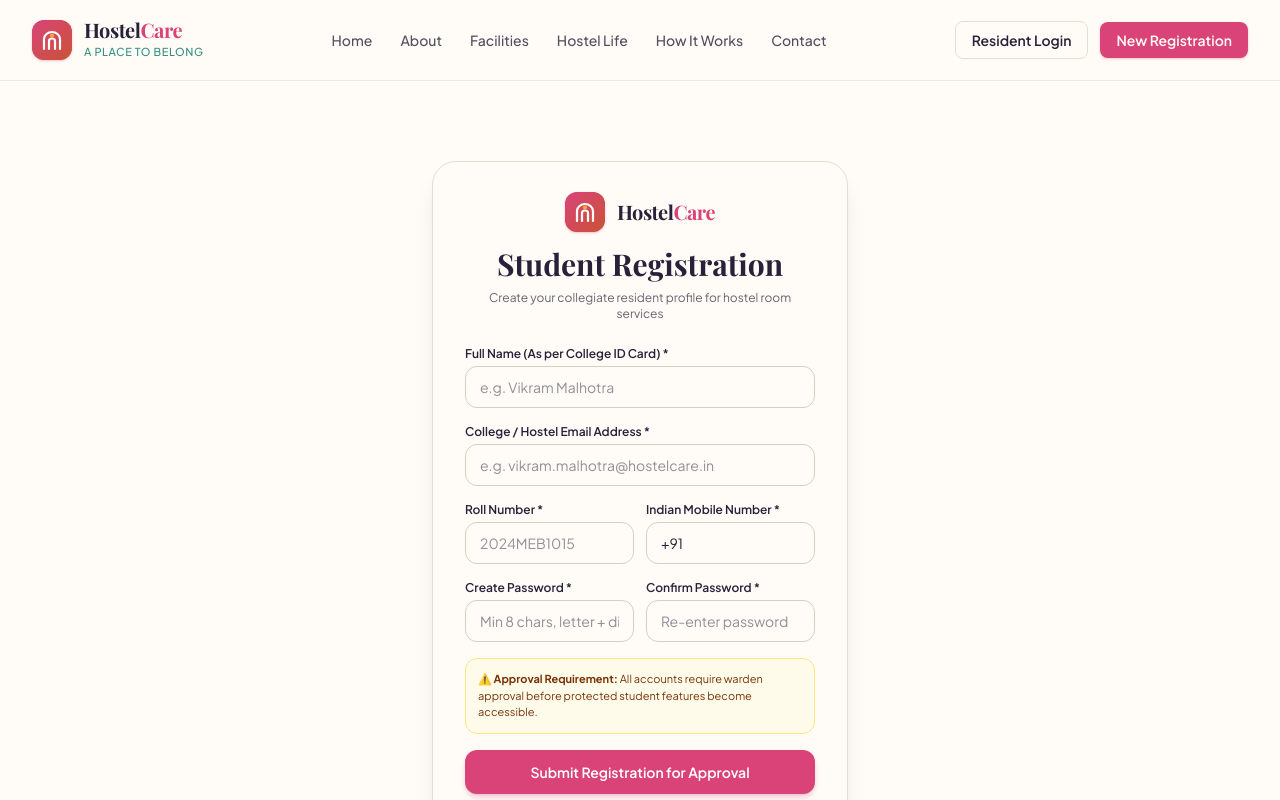
HostelCare Multi-Page Application & Phase 3C Authentication › submits student registration to /api/v1/auth/register and shows pending verification card
The image size is (1280, 800).
Type "Vikram Malhotra" into the field labelled "Full Name (As per College ID Card) *" at (640,387), box [465,366,815,408]
Type "vikram.malhotra@hostelcare.in" into the field labelled "College / Hostel Email Address *" at (640,465), box [465,444,815,486]
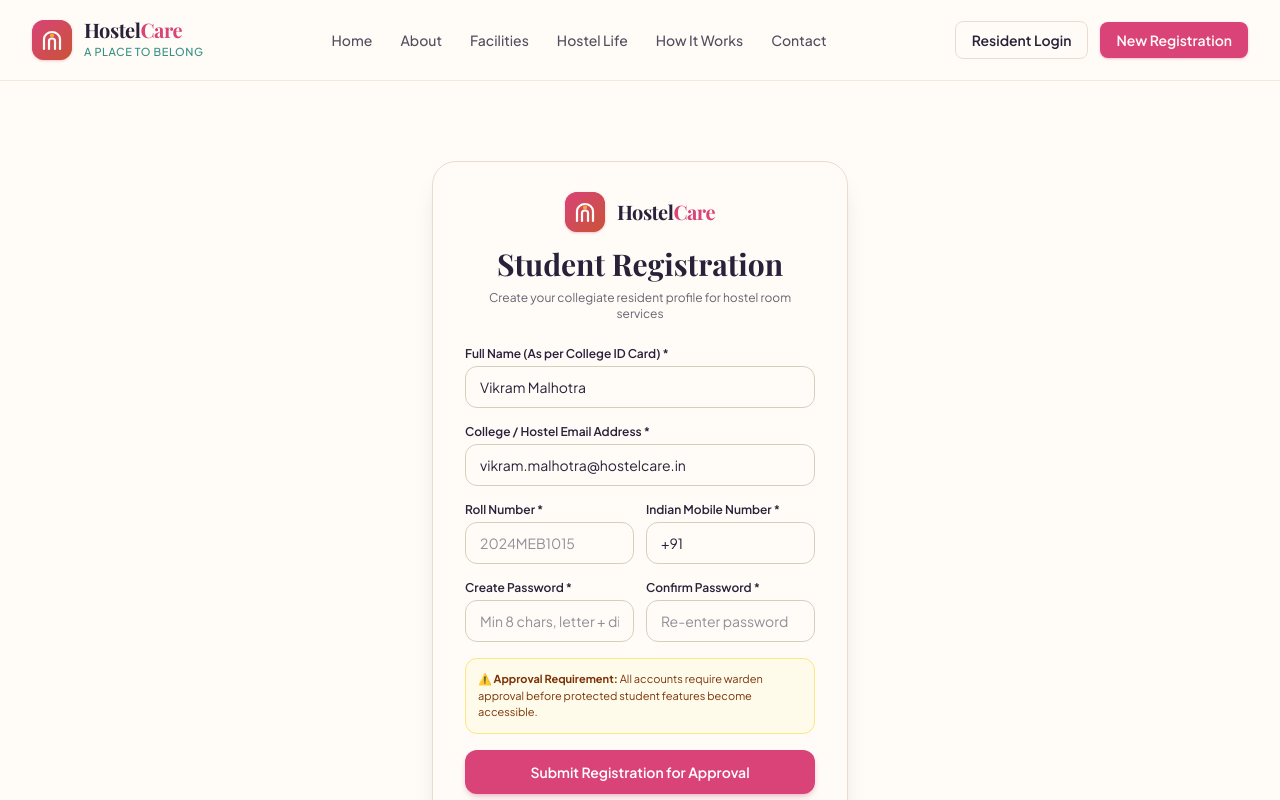
Type "2026MEB1015" into the field labelled "Roll Number *" at (550,543), box [465,522,634,564]
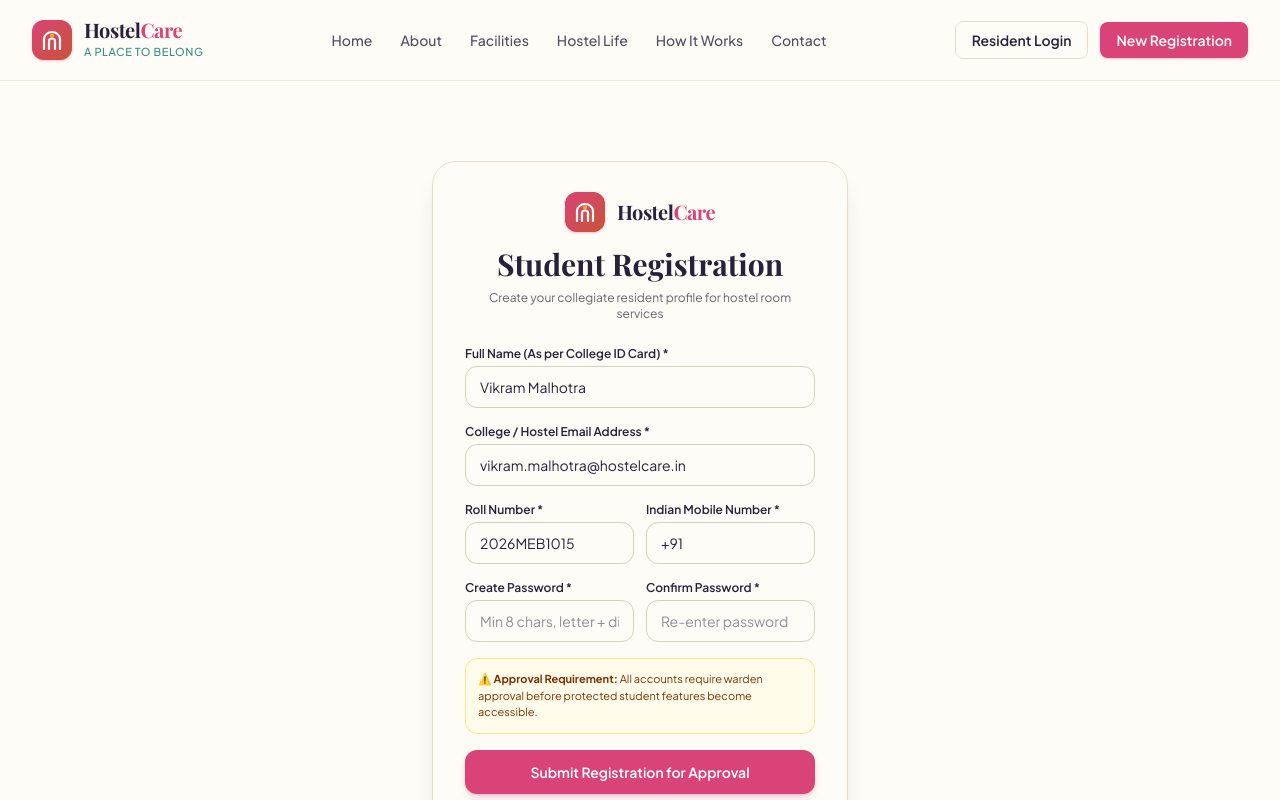
Replace the text in the field labelled "Indian Mobile Number *" with "+91 98765 43210" at (730,543), box [646,522,815,564]
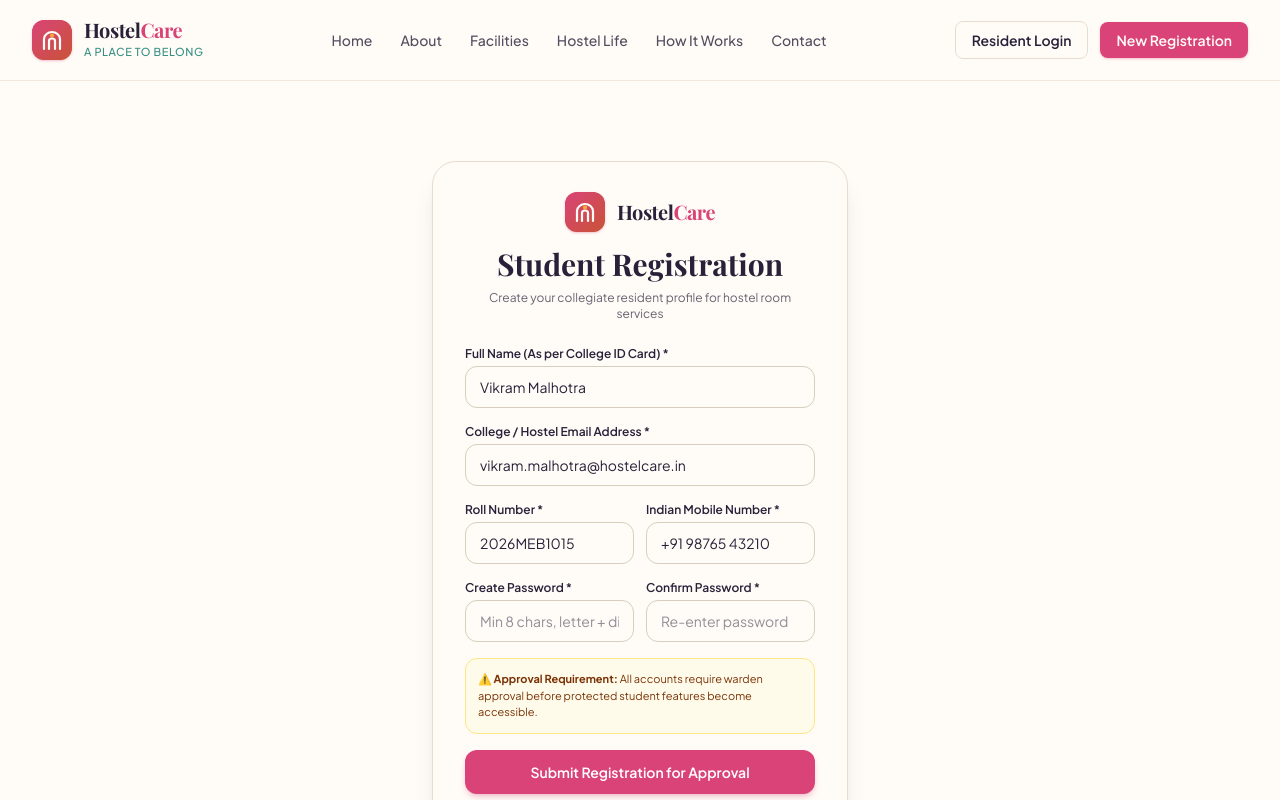
Type "VikramPass123!" into the password field labelled "Create Password *" at (550,621), box [465,600,634,642]
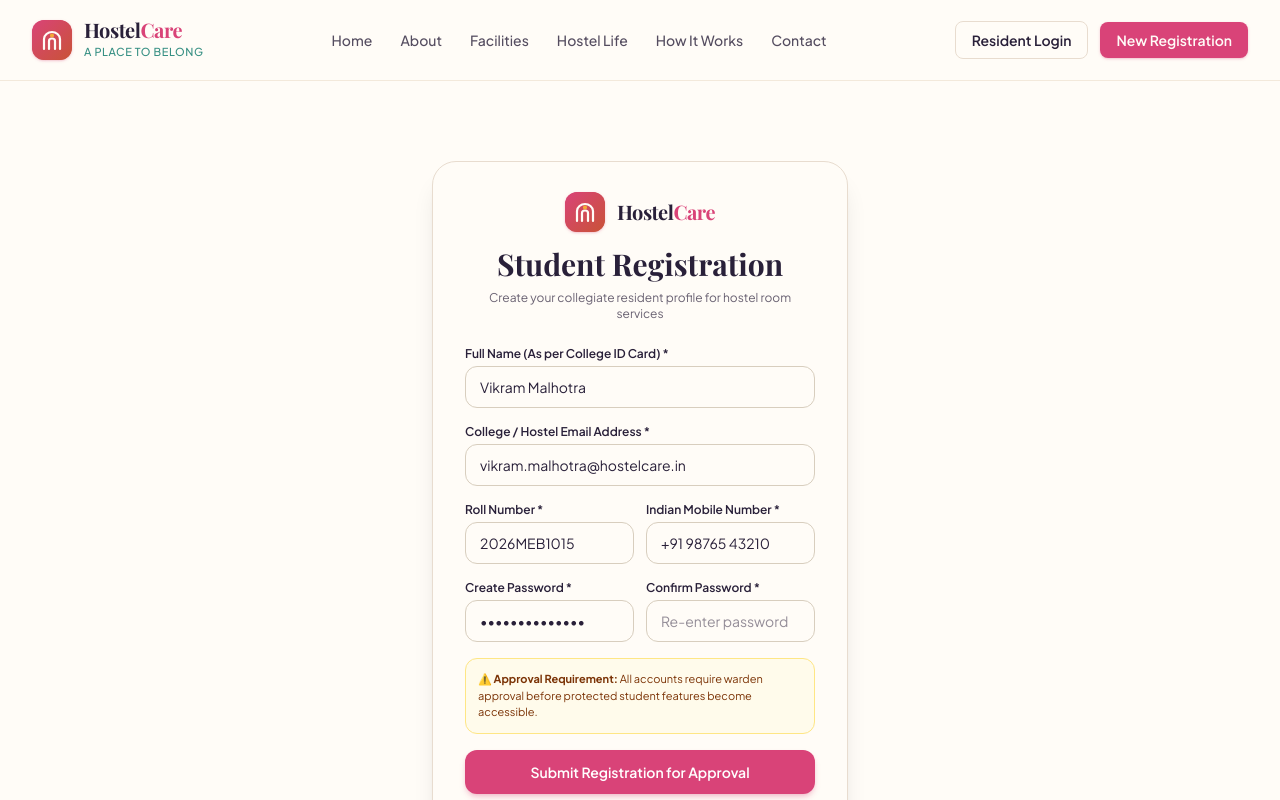
Type "VikramPass123!" into the password field labelled "Confirm Password *" at (730,621), box [646,600,815,642]
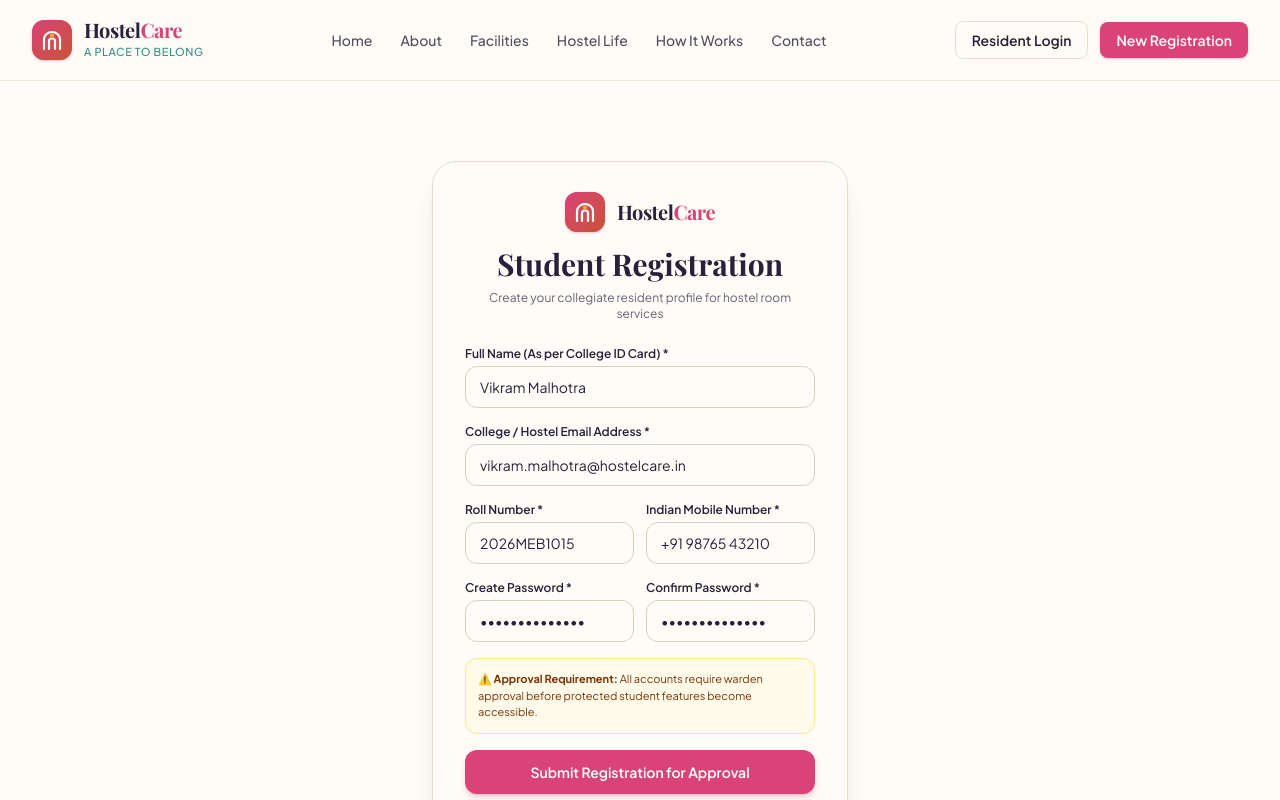
Click the button "Submit Registration for Approval" at (640,772), box [465,750,815,794]
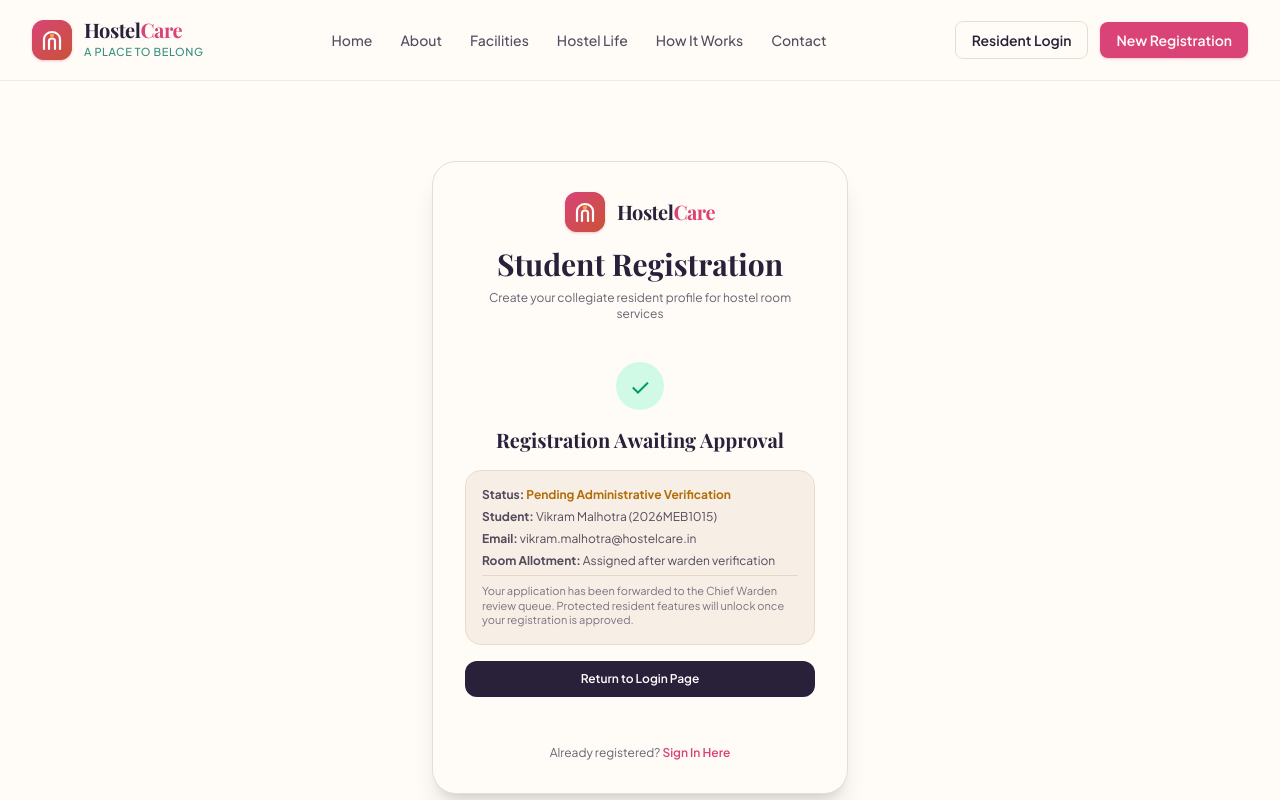
Expected: the heading "Registration Awaiting Approval" is shown, [496,426,784,453]
Expected: the text "Pending Administrative Verification" is shown, [526,487,731,502]
